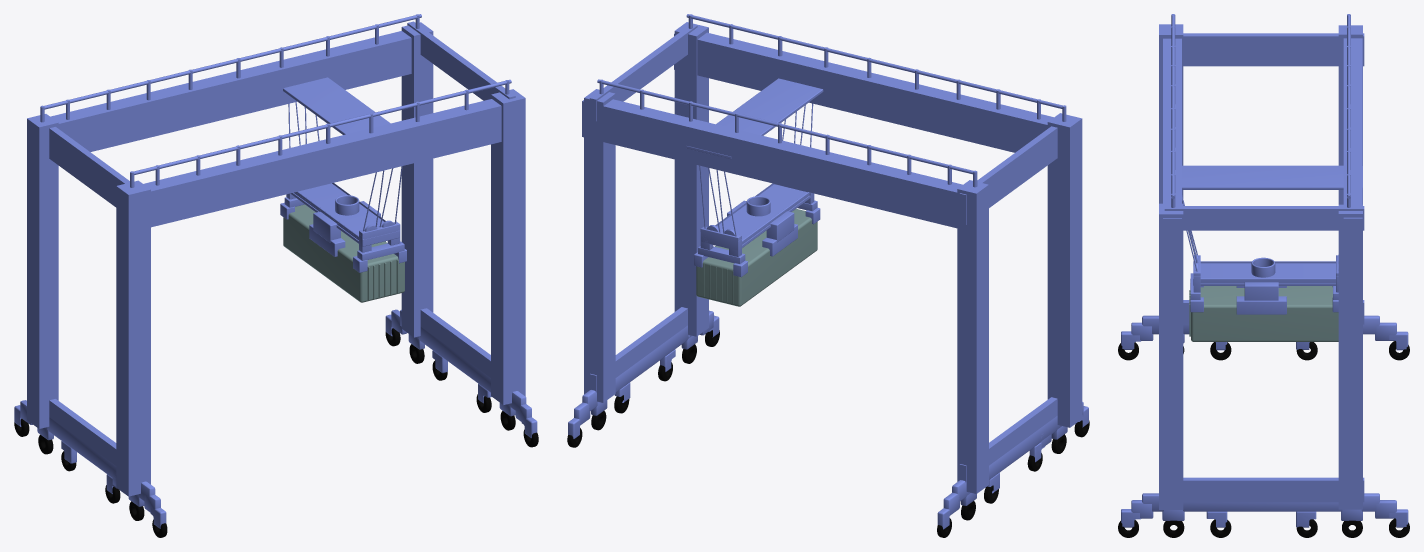
The model's file is changqiao_draco.gltf.
The picture shows the model from 3 angles, left to right: view 1: azimuth 30°, elevation 25°; view 2: azimuth 150°, elevation 25°; view 3: azimuth 270°, elevation 25°; orthographic projection.
Visible parts, largest first — view 1: 立方体.2_11, 立方体_14, 立方体.1_9, 立方体.8_19, 立方体_13, 立方体.9_19, 立方体.4_21, 立方体_12, 立方体.28_4, 立方体.7_19, 圆柱.9_16, 圆柱.8_23 (+6 smaller); view 2: 立方体_14, 立方体.2_11, 立方体.1_9, 立方体_13, 立方体.9_19, 立方体.8_19, 立方体.4_21, 立方体_12, 立方体.28_4, 立方体.7_19, 立方体.10_14, 立方体.26_4 (+5 smaller); view 3: 立方体.8_19, 立方体.9_19, 立方体.4_21, 立方体.28_4, 立方体.7_19, 立方体.10_14, 立方体_12, 立方体_14, 立方体.2_11, 立方体.11_14, 立方体.13_29, 立方体_13 (+11 smaller).
Boxes of the visible parts, x1,y1,x2,y2 form: 立方体.2_11: (143,99,501,227); 立方体_14: (50,31,411,151); 立方体.1_9: (116,180,150,496); 立方体.8_19: (491,89,525,404); 立方体_13: (27,114,58,428); 立方体.9_19: (401,22,433,337); 立方体.4_21: (283,204,404,302); 立方体_12: (283,77,390,134); 立方体.28_4: (49,127,129,207); 立方体.7_19: (407,21,515,100); 圆柱.9_16: (42,14,421,109); 圆柱.8_23: (131,79,511,174); 立方体_14: (582,99,962,228); 立方体.2_11: (674,32,1053,152); 立方体.1_9: (1047,113,1082,427); 立方体_13: (957,180,988,493); 立方体.9_19: (584,89,615,402); 立方体.8_19: (674,22,708,336); 立方体.4_21: (696,208,817,306); 立方体_12: (686,78,823,159); 立方体.28_4: (959,126,1057,225); 立方体.7_19: (589,24,697,121); 立方体.10_14: (589,307,687,392); 立方体.26_4: (959,397,1057,482); 立方体.8_19: (1159,203,1183,509); 立方体.9_19: (1338,204,1362,509); 立方体.4_21: (1191,286,1338,341); 立方体.28_4: (1183,33,1364,66); 立方体.7_19: (1164,206,1364,230); 立方体.10_14: (1183,477,1364,502); 立方体_12: (1182,165,1362,189); 立方体_14: (1343,38,1362,253); 立方体.2_11: (1163,38,1181,253); 立方体.11_14: (1142,493,1379,511); 立方体.13_29: (1200,263,1335,283); 立方体_13: (1338,25,1362,204).
Size of the model in its own units: 17.52 by 14.68 by 11.33.
